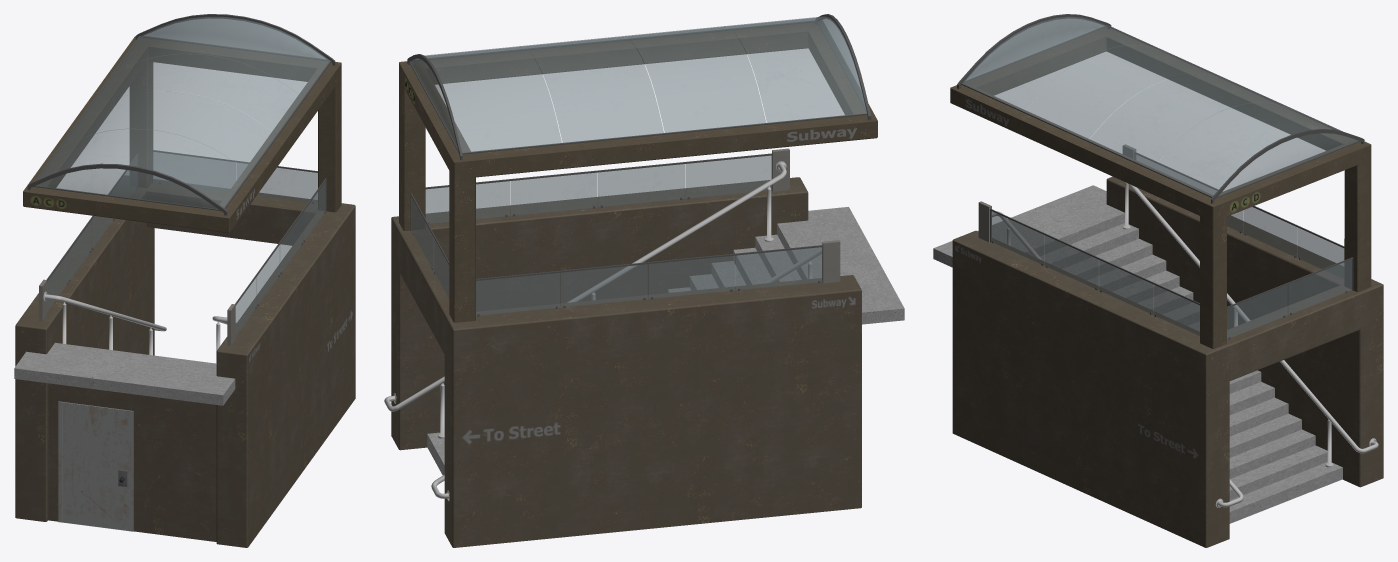
File: subway.glb
3 views of the same model, side by side, from view 1: azimuth 30°, elevation 25°; view 2: azimuth 150°, elevation 25°; view 3: azimuth 270°, elevation 25° (orthographic). The views are drawn at different scales.
Parts seen in each view (by area): view 1: subway; view 2: subway; view 3: subway.
Boxes of the visible parts, x1,y1,x2,y2 form: subway: (14, 14, 355, 547); subway: (384, 14, 904, 547); subway: (933, 14, 1383, 547).
Size of the model in its own units: 8.56 by 7.65 by 8.37.
Materials: 8 (8 with a texture image).
